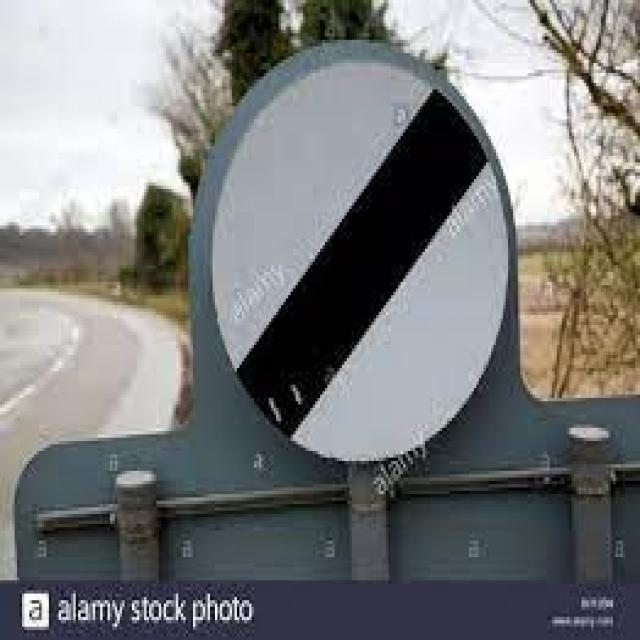restriction ends: (202, 54, 521, 468)
